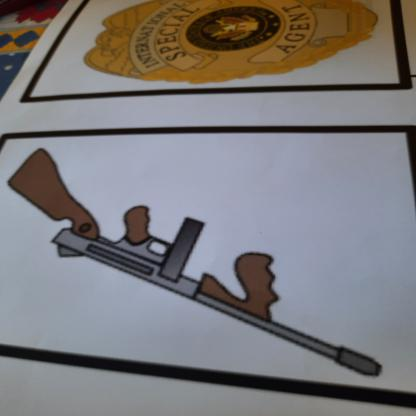Bootlegger: (7, 140, 416, 384)
G-man: (65, 1, 397, 87)
